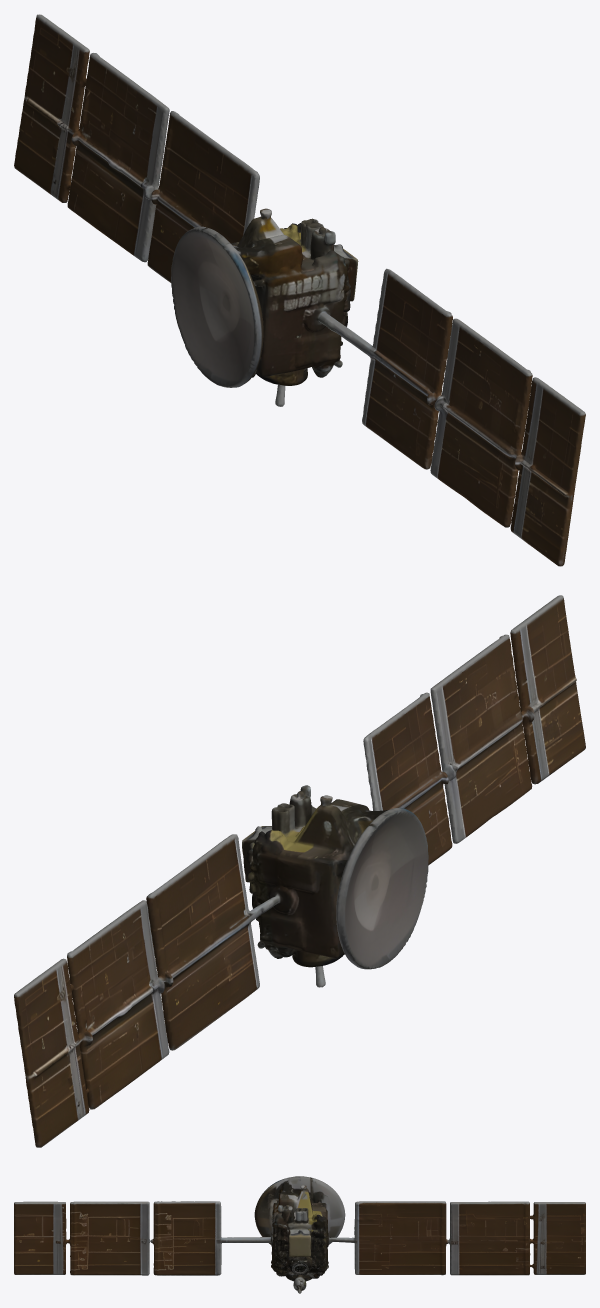
File: satellite 3d model.glb
The picture shows the model from 3 angles, top to bottom: view 1: azimuth 30°, elevation 25°; view 2: azimuth 150°, elevation 25°; view 3: azimuth 270°, elevation 25°; orthographic projection. The views are drawn at different scales.
Visible parts, largest first — view 1: tripo_node_18006e64-41da-44d1-a8a2-0ab59bec31bd; view 2: tripo_node_18006e64-41da-44d1-a8a2-0ab59bec31bd; view 3: tripo_node_18006e64-41da-44d1-a8a2-0ab59bec31bd.
Boxes of the visible parts, x1,y1,x2,y2 form: tripo_node_18006e64-41da-44d1-a8a2-0ab59bec31bd: (14, 14, 585, 566); tripo_node_18006e64-41da-44d1-a8a2-0ab59bec31bd: (14, 595, 585, 1147); tripo_node_18006e64-41da-44d1-a8a2-0ab59bec31bd: (14, 1176, 585, 1293).
Size of the model in its own units: 0.1465 by 0.197 by 1.
Materials: 1 (1 with a texture image).
